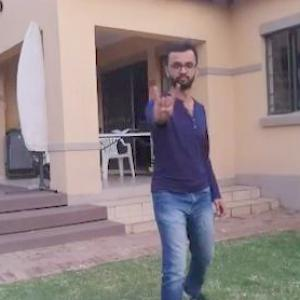takeoff-hand: (142, 76, 180, 124)
